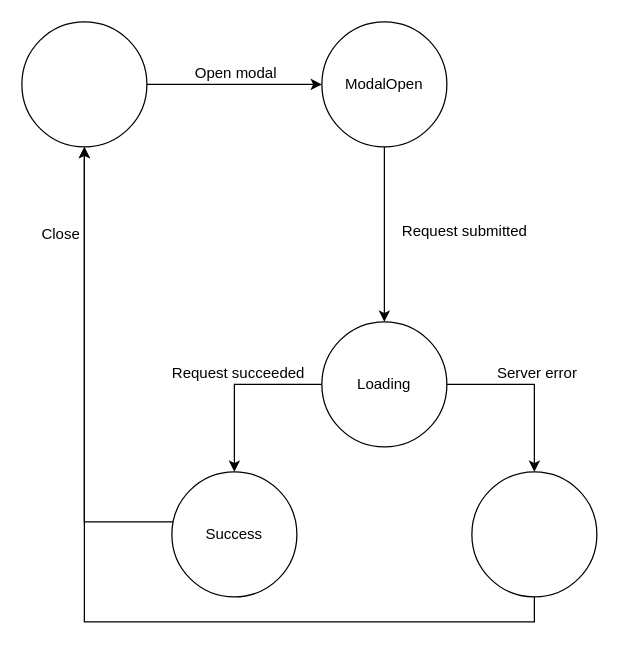
Some shapes in this 619 by 654 pixel diagram are drawn without their labels. Each missing label, with the centre of its shape:
"Error" goes at point 534,534.
"Idle" goes at point 84,84.
